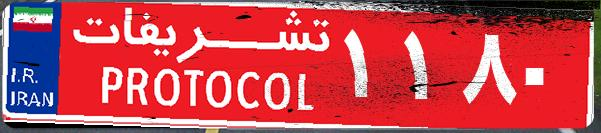0: (520, 20, 580, 115)
1: (340, 20, 400, 115), (400, 20, 460, 115)
8: (460, 20, 520, 115)
تشریفات: (60, 8, 340, 125)
